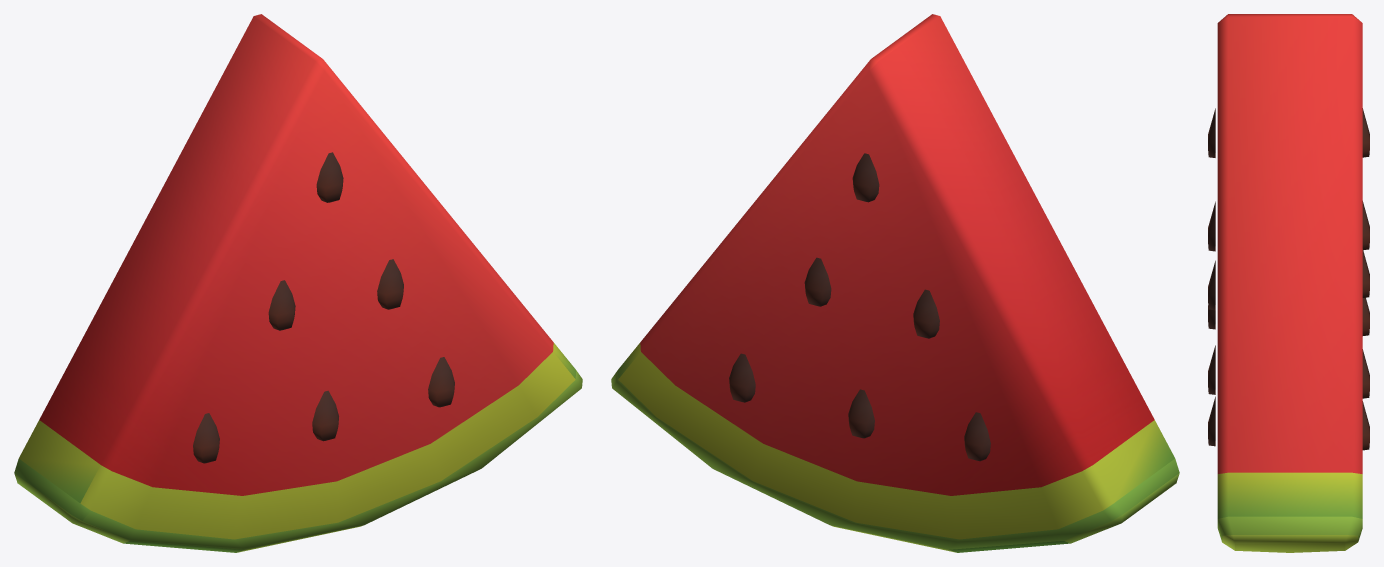
The model's file is watermelon_003.fbx.
3 renders of one model, left to right at view 1: azimuth 30°, elevation 25°; view 2: azimuth 150°, elevation 25°; view 3: azimuth 270°, elevation 25°, orthographic.
Parts seen in each view (by area): view 1: watermelon_003; view 2: watermelon_003; view 3: watermelon_003.
Part boxes in pixels (x1,y1,x2,y2): watermelon_003: (14, 14, 582, 552); watermelon_003: (611, 14, 1179, 552); watermelon_003: (1208, 14, 1369, 552).
Bounding box in the file's own units: 10.95 × 2.98 × 9.82.
